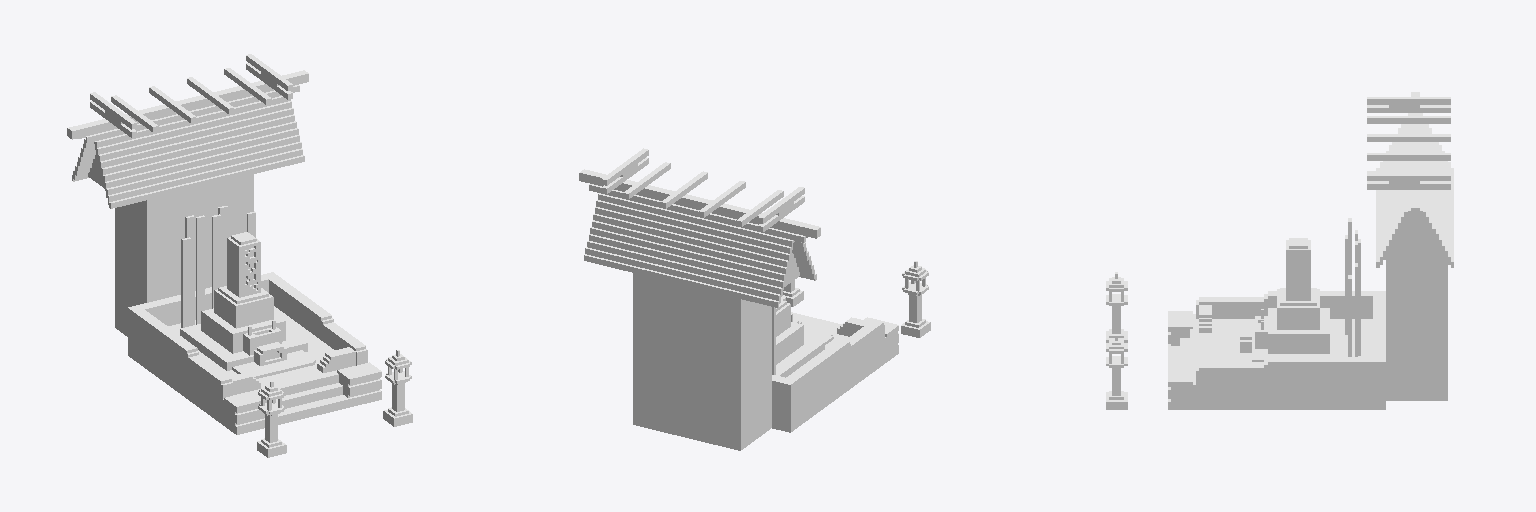
File: GDS2_Shrine-0.obj
The picture shows the model from 3 angles: view 1: azimuth 30°, elevation 25°; view 2: azimuth 150°, elevation 25°; view 3: azimuth 270°, elevation 25°; orthographic projection.
Parts seen in each view (by area): view 1: GDS2_Shrine-0; view 2: GDS2_Shrine-0; view 3: GDS2_Shrine-0.
Part boxes in pixels (left/top/right/bottom): GDS2_Shrine-0: left=67, top=54, right=412, bottom=457; GDS2_Shrine-0: left=579, top=148, right=930, bottom=450; GDS2_Shrine-0: left=1106, top=92, right=1453, bottom=409.
Size of the model in its own units: 8.8 by 8.5 by 11.2.